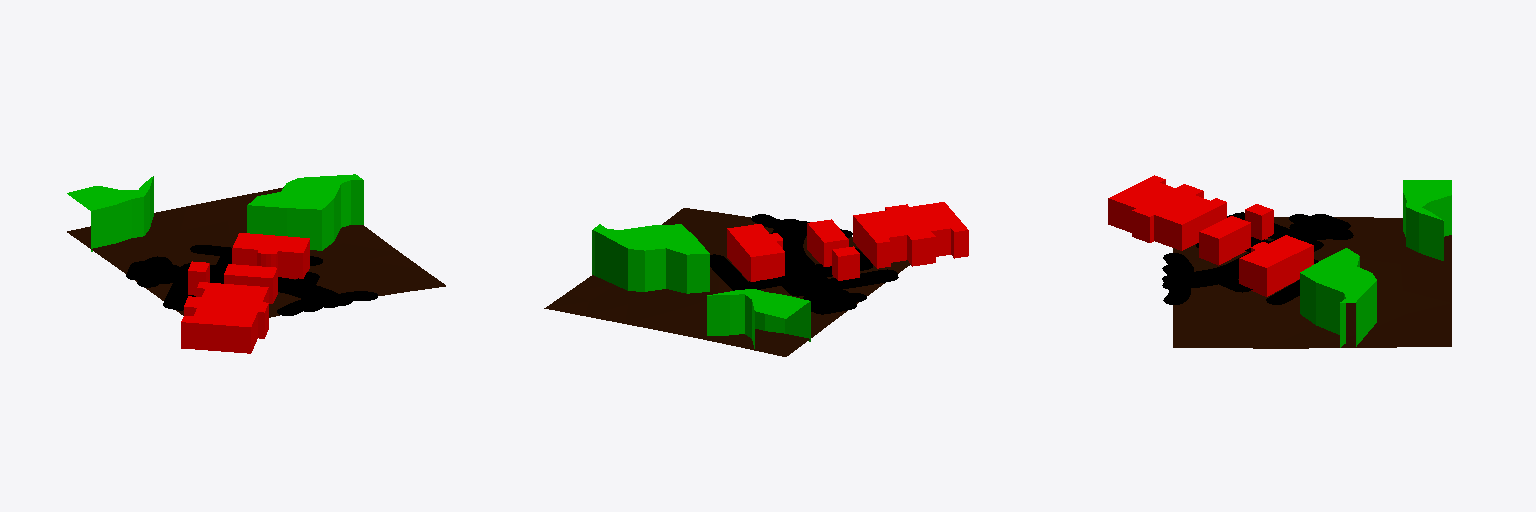
The model's file is battcave.obj.
The picture shows the model from 3 angles: view 1: azimuth 30°, elevation 25°; view 2: azimuth 150°, elevation 25°; view 3: azimuth 270°, elevation 25°; orthographic projection.
Visible parts, largest first — view 1: terrain, Cube, buildings, roads; view 2: Cube, buildings, terrain, roads; view 3: terrain, buildings, Cube, roads.
Part boxes in pixels (bbox=[...]): terrain: bbox=[67, 187, 445, 317]; Cube: bbox=[67, 174, 363, 251]; buildings: bbox=[181, 233, 309, 353]; roads: bbox=[126, 245, 377, 315]; Cube: bbox=[592, 224, 810, 348]; buildings: bbox=[727, 202, 968, 281]; terrain: bbox=[544, 208, 910, 356]; roads: bbox=[710, 214, 898, 314]; terrain: bbox=[1173, 217, 1451, 348]; buildings: bbox=[1108, 175, 1313, 296]; Cube: bbox=[1300, 180, 1451, 347]; roads: bbox=[1162, 212, 1353, 304].
Size of the model in its own units: 228 by 40.07 by 246.